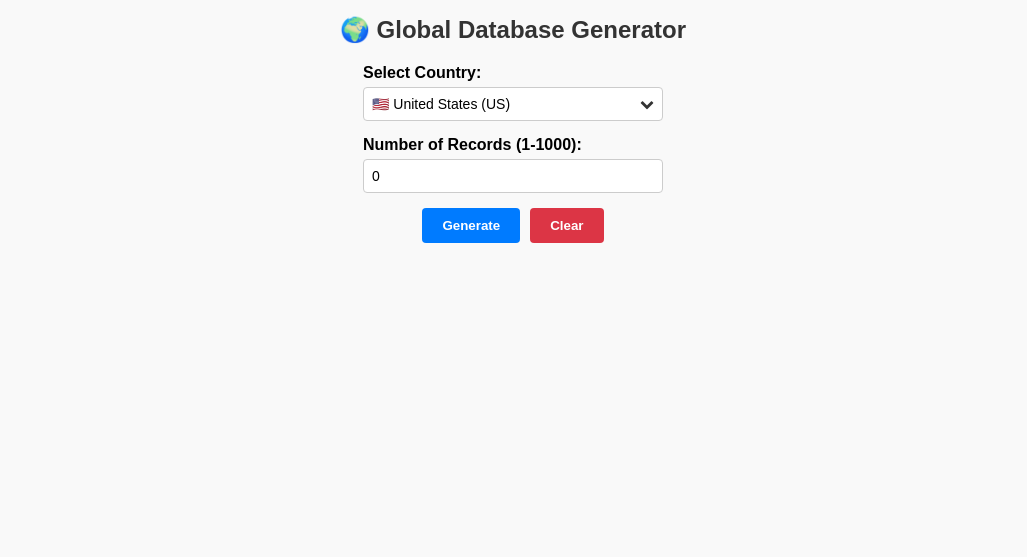
Test: generates data and shows table when "Generate" button is clicked
Replace the text in the number field labelled "Number of Records (1-1000):" with "5". click: (513, 176)
box: [363,159,663,193]
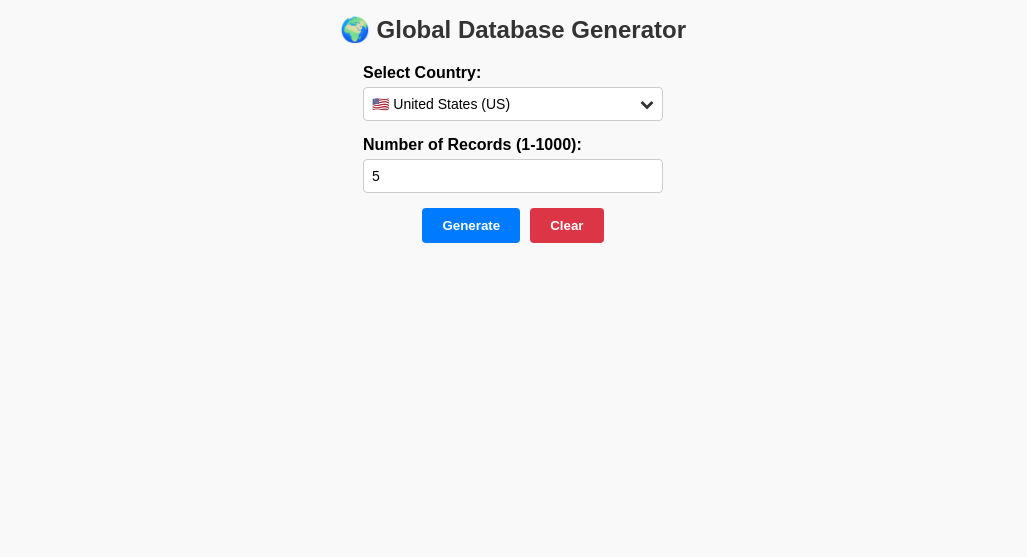
Click the button "Generate". click: (471, 226)
box: [422,208,520,243]
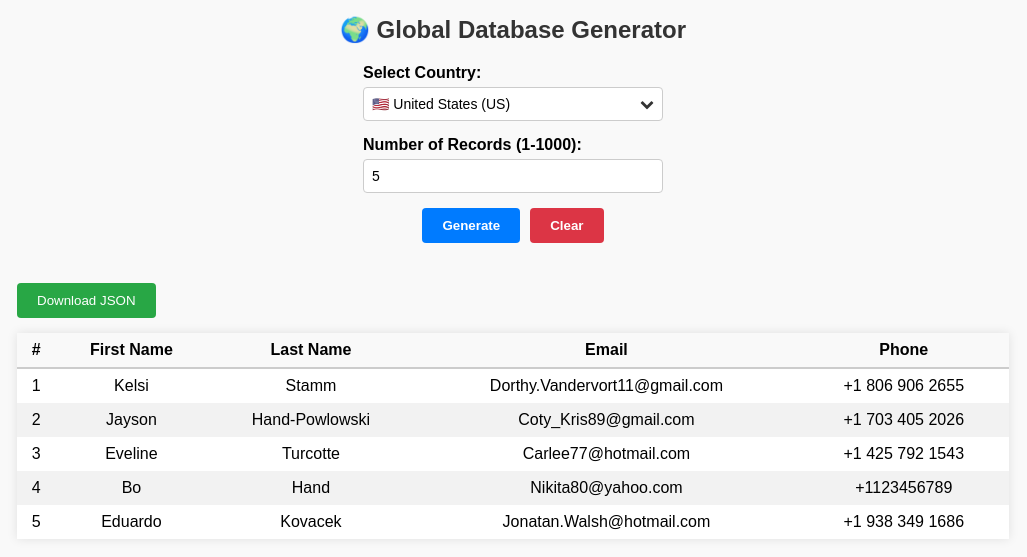
Expected: the table is shown, [17,333,1009,539]
Expected: the number of rows is 6, [17,333,1009,368]; [17,368,1009,403]; [17,403,1009,437]; [17,437,1009,471]; [17,471,1009,505]; [17,505,1009,539]
